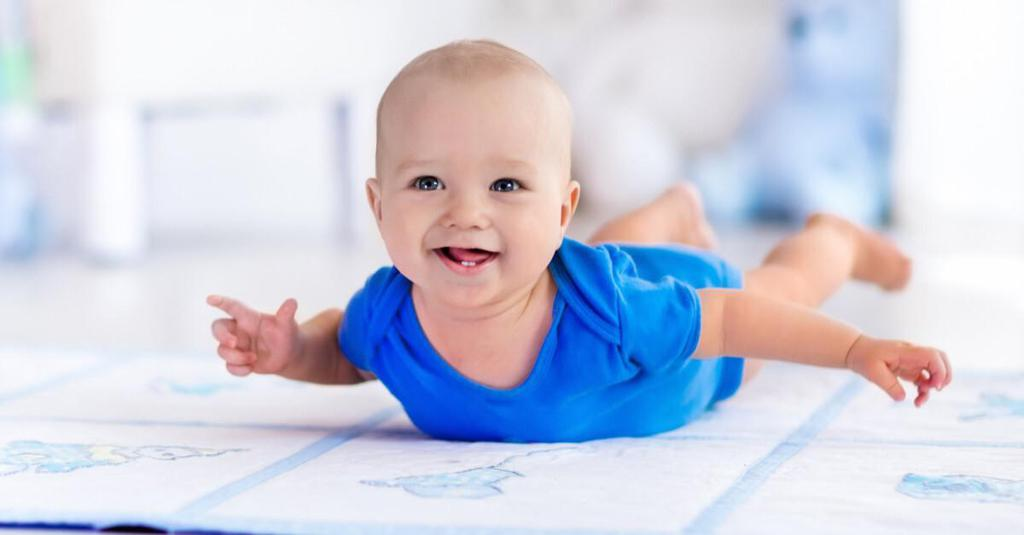child: (167, 24, 981, 473)
